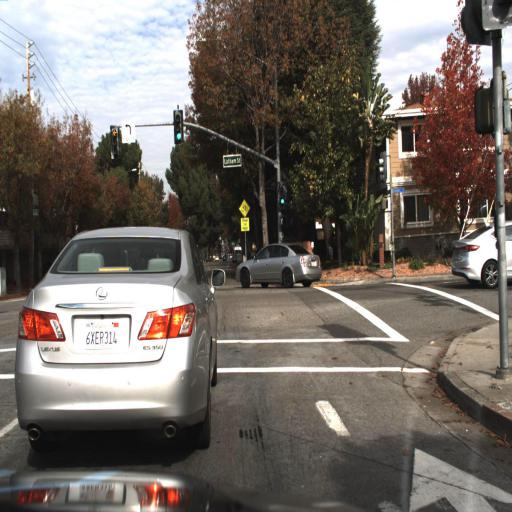car: (13, 227, 218, 448), (232, 240, 325, 290), (450, 217, 512, 291)
trafficLight: (173, 112, 186, 154)
trafficLight-Green: (276, 184, 288, 218)
trafficLight-RedLeft: (107, 130, 121, 170)
